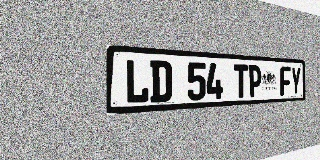4: (206, 63, 223, 100)
5: (188, 62, 206, 101)
D: (150, 60, 172, 103)
F: (280, 66, 291, 96)
L: (125, 59, 149, 104)
P: (248, 65, 261, 97)
T: (234, 64, 248, 98)
Y: (291, 67, 301, 95)
